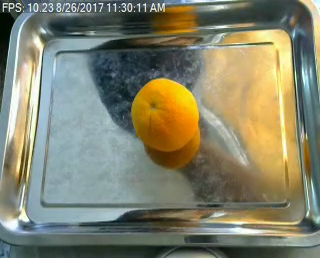Orange: (130, 77, 198, 151)
